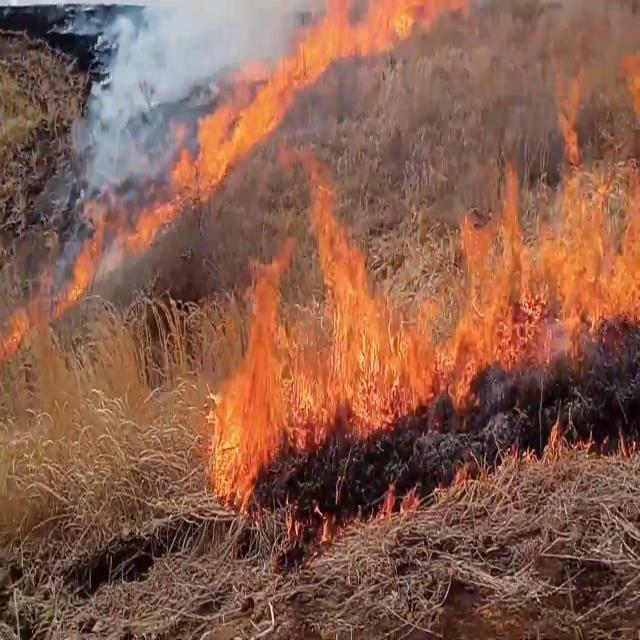Fire: (444, 16, 640, 430), (207, 161, 426, 503), (169, 31, 302, 206), (65, 174, 181, 306), (286, 0, 432, 76)
Smoke: (72, 1, 234, 192)
